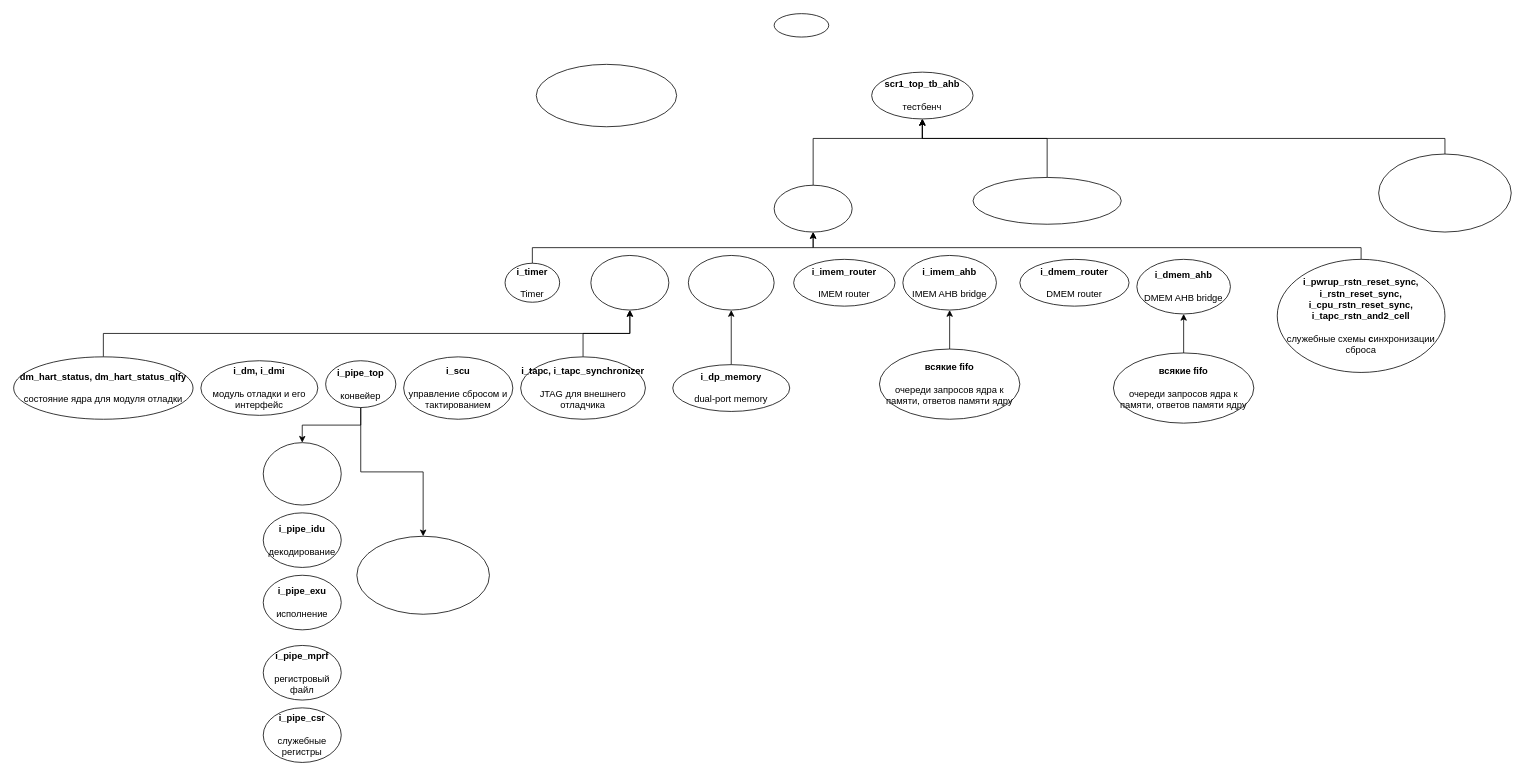
This 1525x776 diagram has some shape labels left out. Here are the shapes that lost their labels. From the top down, the box of each, then its label:
(773, 13, 829, 37): TOP
(535, 64, 677, 127): unit объявления всяких констант и параметров
(773, 184, 852, 232): i_top весь кластер SCR1
(972, 177, 1121, 224): i_memory_tb модель внешней памяти
(1378, 153, 1511, 232): unnamedblk5/6/7 безымянные блоки тестбенча, его локальные переменные
(590, 255, 669, 310): i_core_top SCR1 core
(688, 255, 774, 310): i_tcm Tightly-Coupled Memory
(262, 442, 341, 505): i_pipe_ifu выборка инструкций
(356, 535, 489, 614): idu2exu_cmd команда от декодера к исполнителю: какая операция, какие регистры
